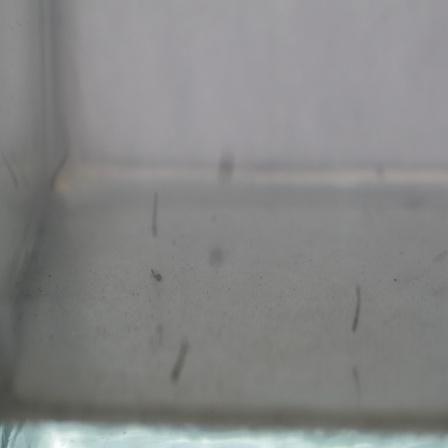Jentik-Nyamuk: (346, 278, 368, 338), (147, 263, 170, 289)
